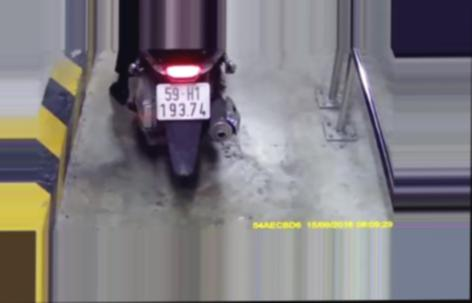License_Plate: (153, 80, 217, 126)
